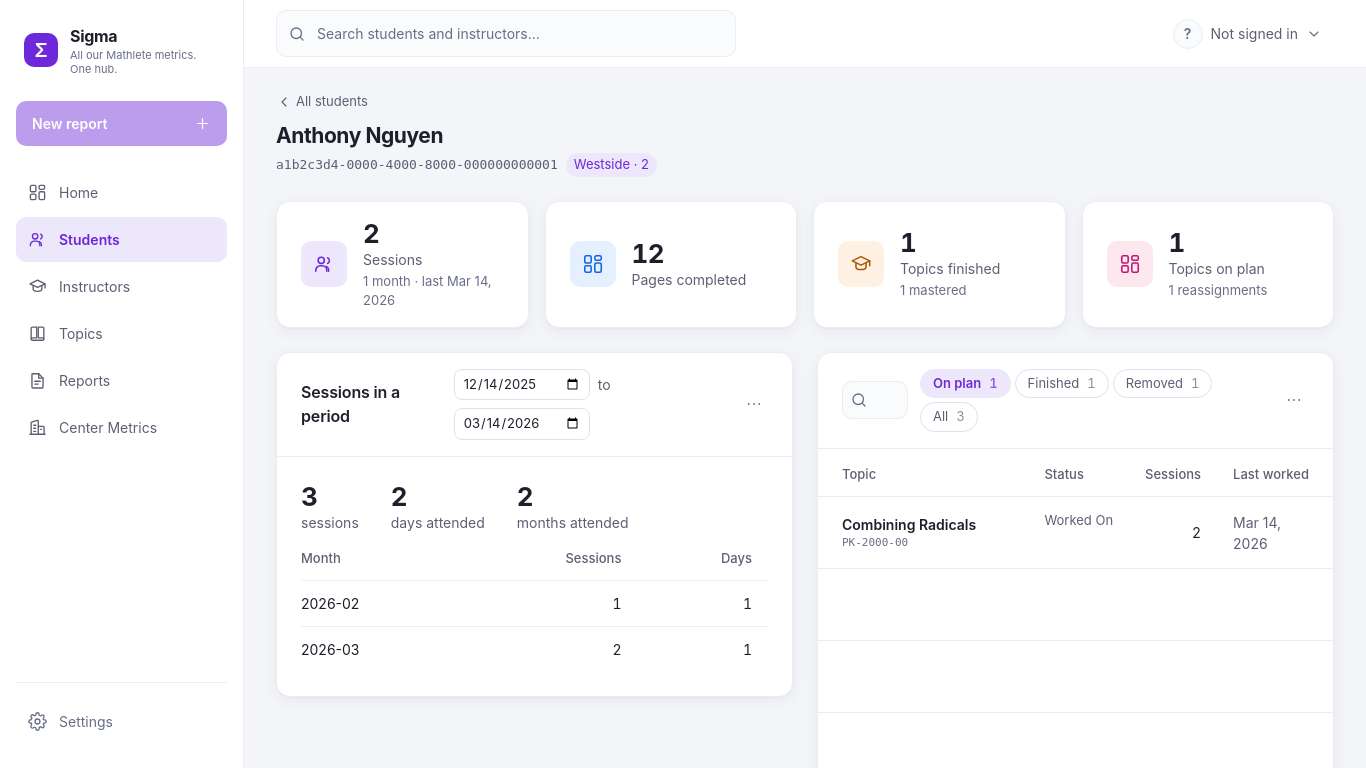
Test: student profile › flags a topic that came back onto the plan
The width and height of the screenshot is (1366, 768).
Click the button "Finished 1".
click(1062, 383)  # box [1015, 369, 1109, 398]
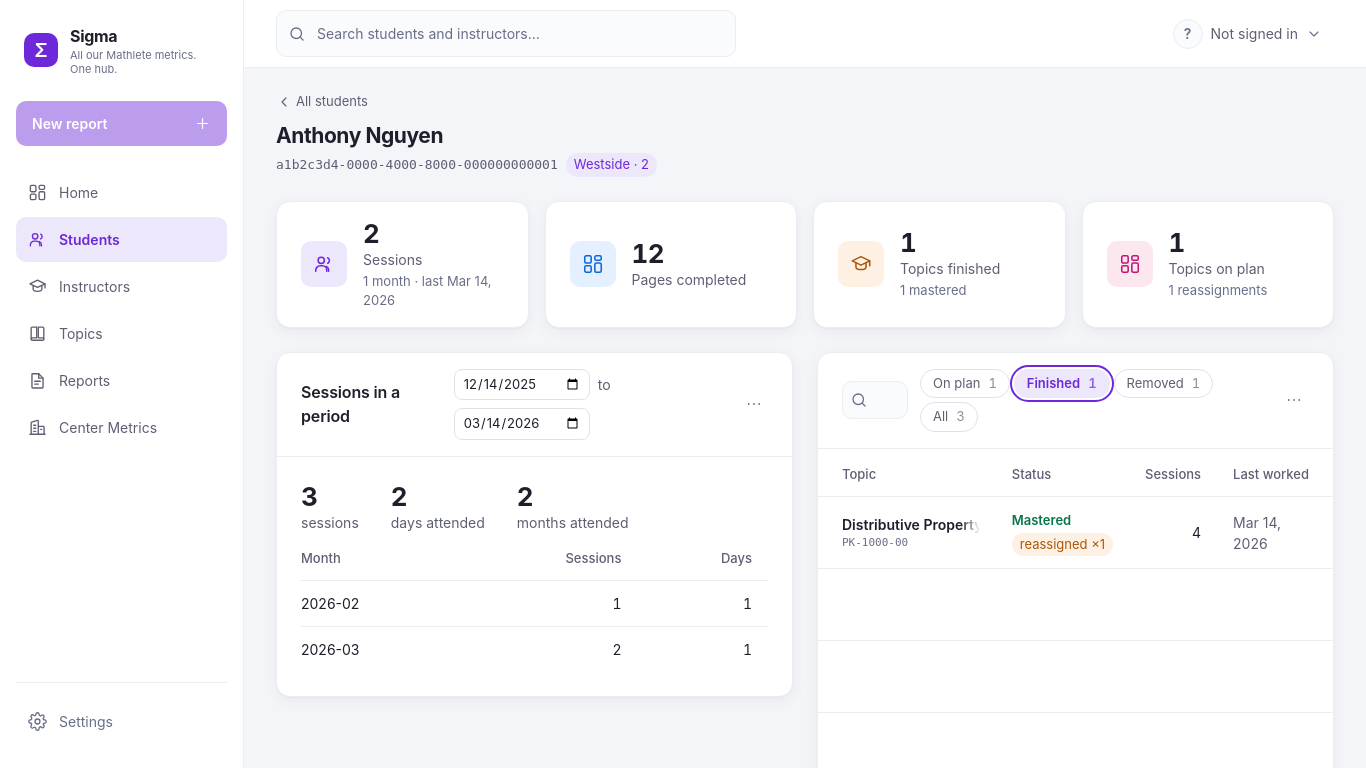
Expected: the text "reassigned ×1" is shown, [1012, 533, 1113, 556]
